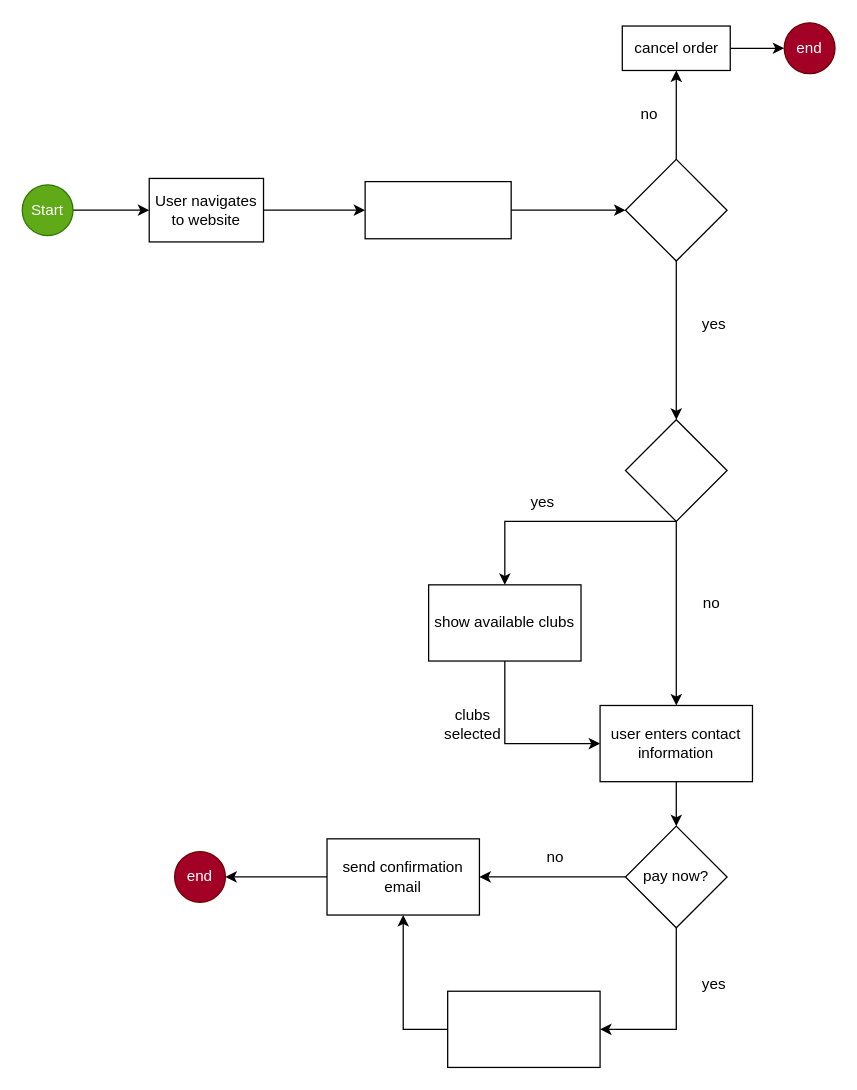
Image size: 857x1090. Some labels were removed from this diagram. The centre of each missing label's shape, as x and y in pixels:
"enter payment details" goes at point (523, 1028).
"requires clubs?" goes at point (675, 469).
"Show available slots" goes at point (437, 209).
"time works?" goes at point (675, 209).
